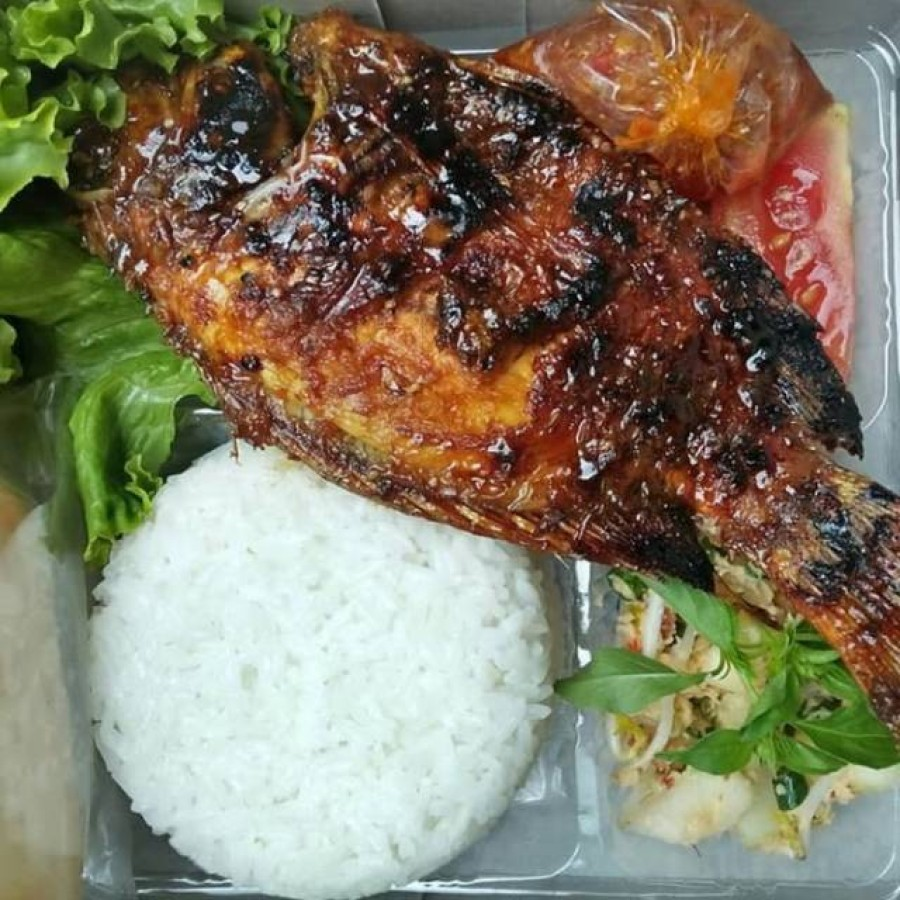buah_sayur_lainnya: (604, 621, 807, 860), (12, 257, 120, 465)
daging: (240, 83, 535, 442)
makanan_berpati: (148, 547, 461, 848)
